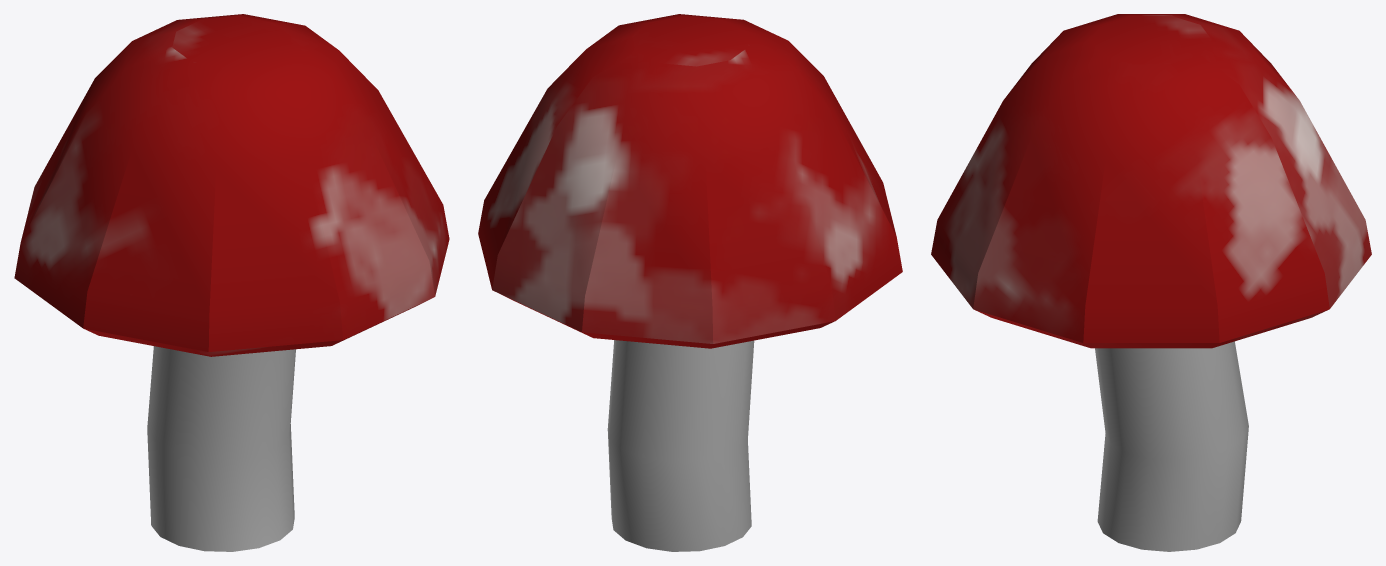
File: Sm_Fungus1L.fbx
3 views of the same model, side by side, from view 1: azimuth 30°, elevation 25°; view 2: azimuth 150°, elevation 25°; view 3: azimuth 270°, elevation 25° (orthographic). The views are drawn at different scales.
Parts seen in each view (by area): view 1: Sm_Fungus1L; view 2: Sm_Fungus1L; view 3: Sm_Fungus1L.
Boxes of the visible parts, x1,y1,x2,y2 form: Sm_Fungus1L: [14, 14, 449, 551]; Sm_Fungus1L: [478, 14, 902, 551]; Sm_Fungus1L: [931, 14, 1371, 551].
Bounding box in the file's own units: 10.9 × 13.82 × 11.46.
